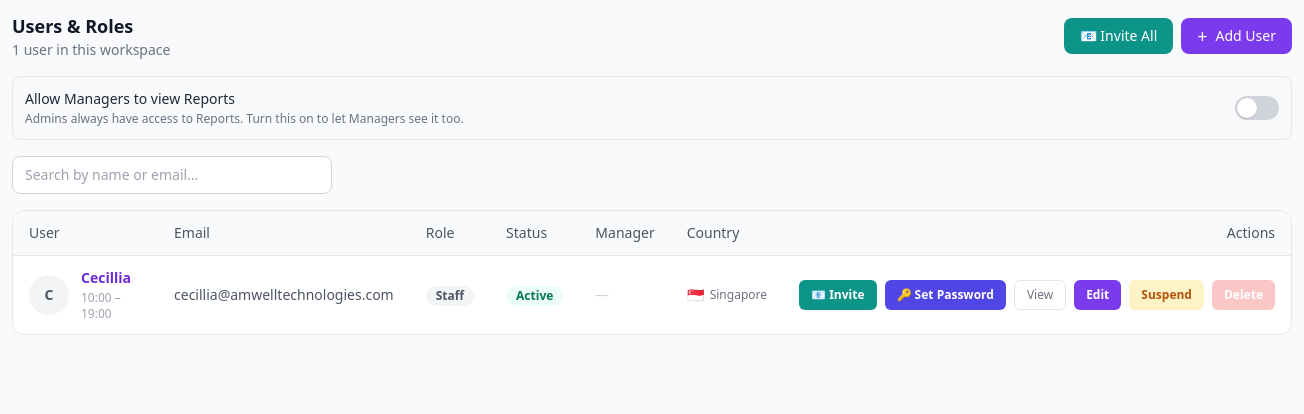
Test: UsersTab — per-row and bulk invite › invites every user via Invite All
This screenshot has width=1304, height=414.
Expected: the text "cecillia@amwelltechnologies.com" is shown, [158,256,410,334]
Click the button "📧 Invite All" at coordinates (1118, 36), box [1064,18,1173,54]
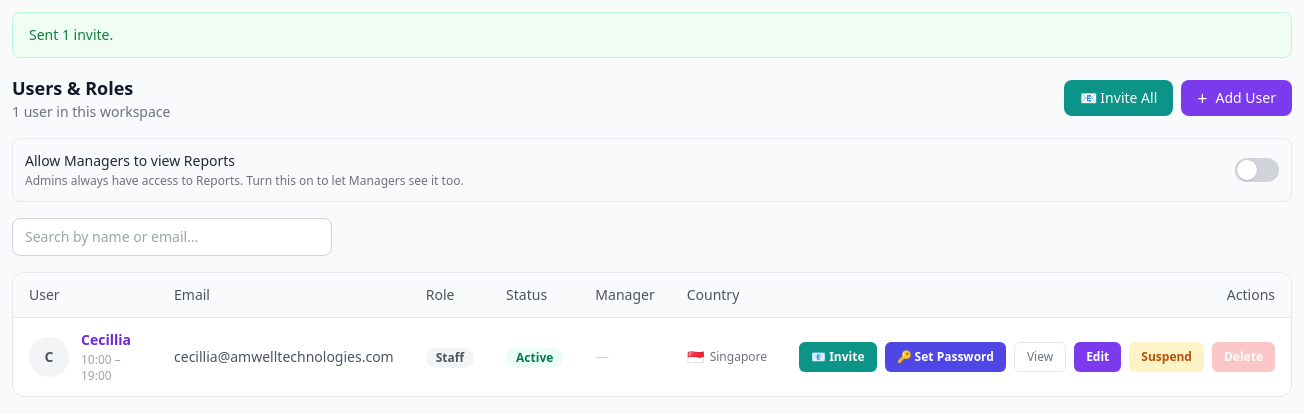
Now the text "Sent 1 invite." is shown, box [12,12,1292,58]
